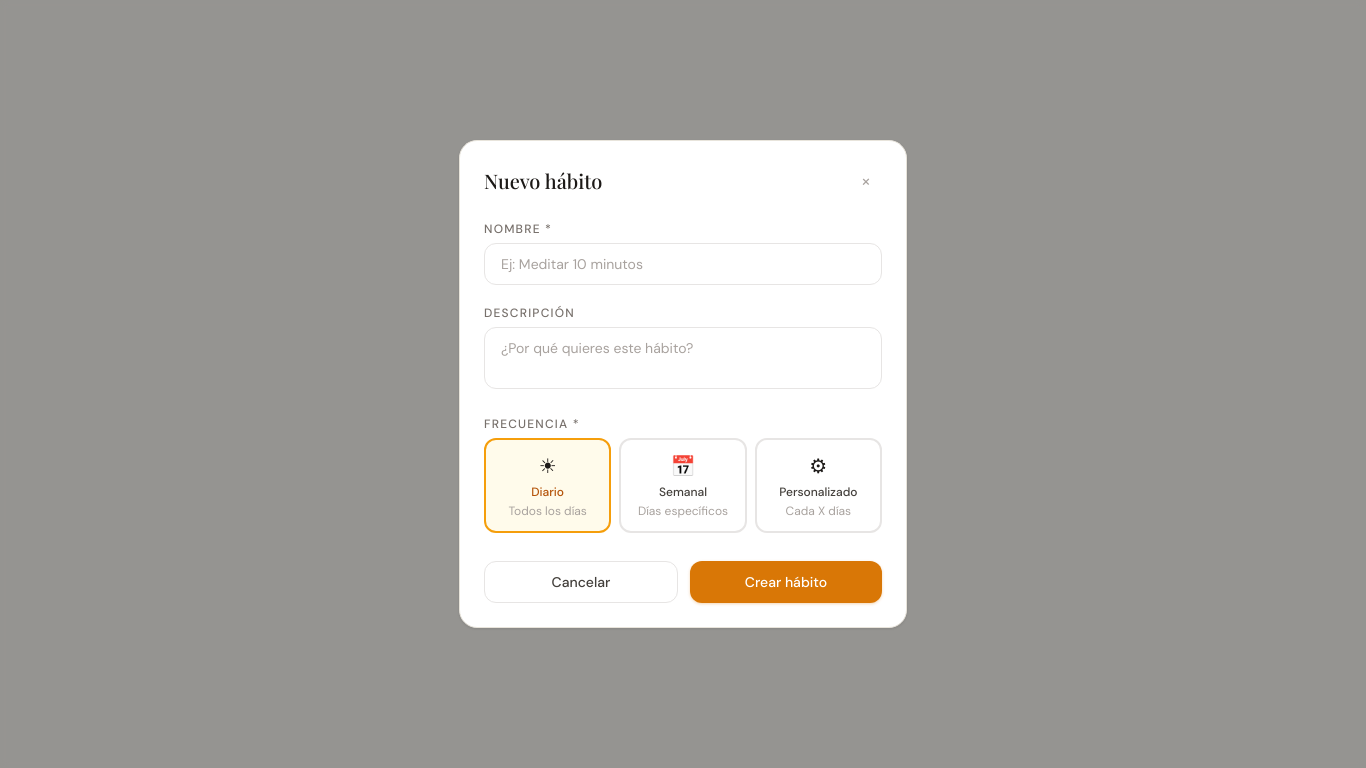
Test case: HabitForm — validaciones › muestra error si el nombre está vacío al enviar
The image size is (1366, 768).
Click the button "Crear hábito". click: (786, 582)
box: x1=690 y1=561 x2=882 y2=603
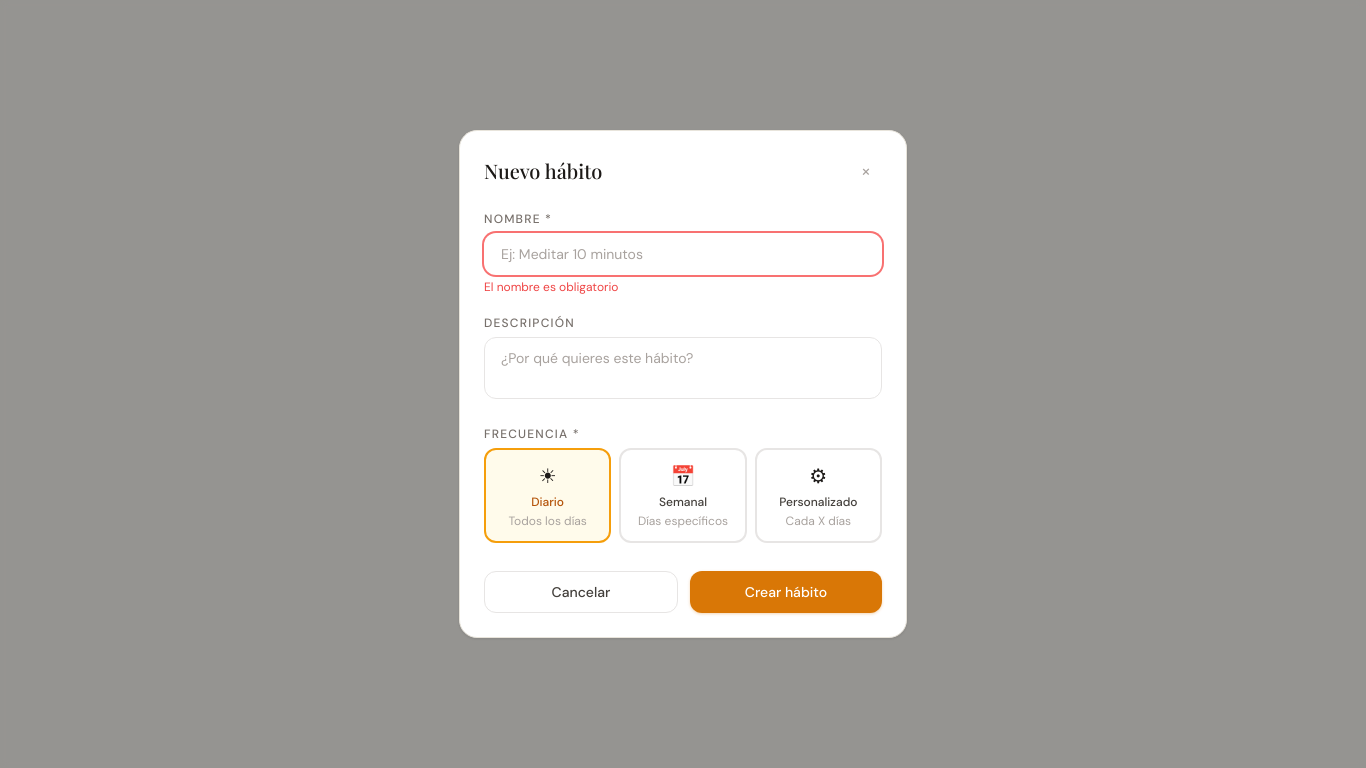
Now the text "El nombre es obligatorio" is shown, box x1=484 y1=279 x2=618 y2=295
